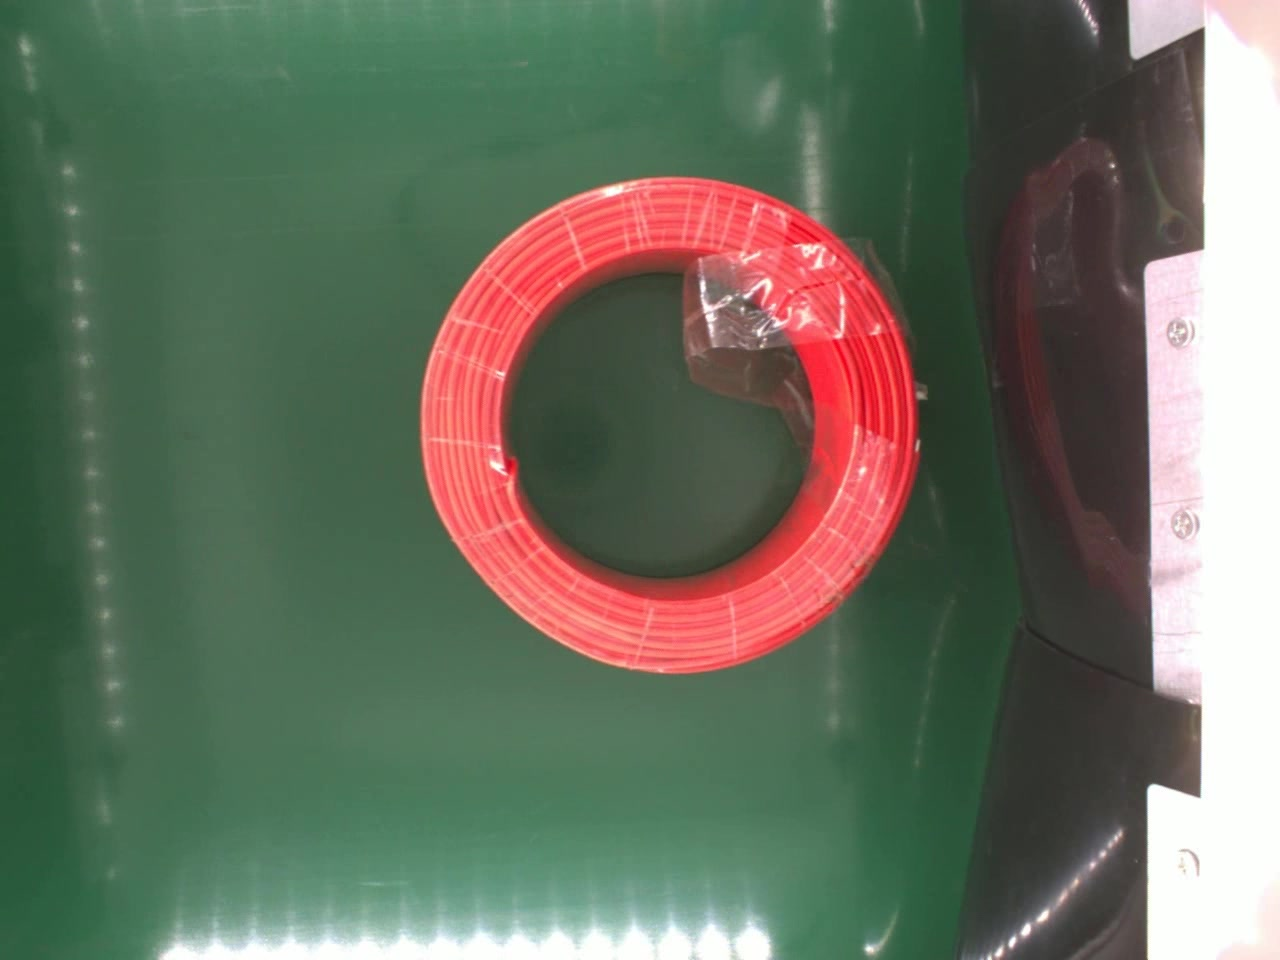red: (414, 169, 923, 681)
